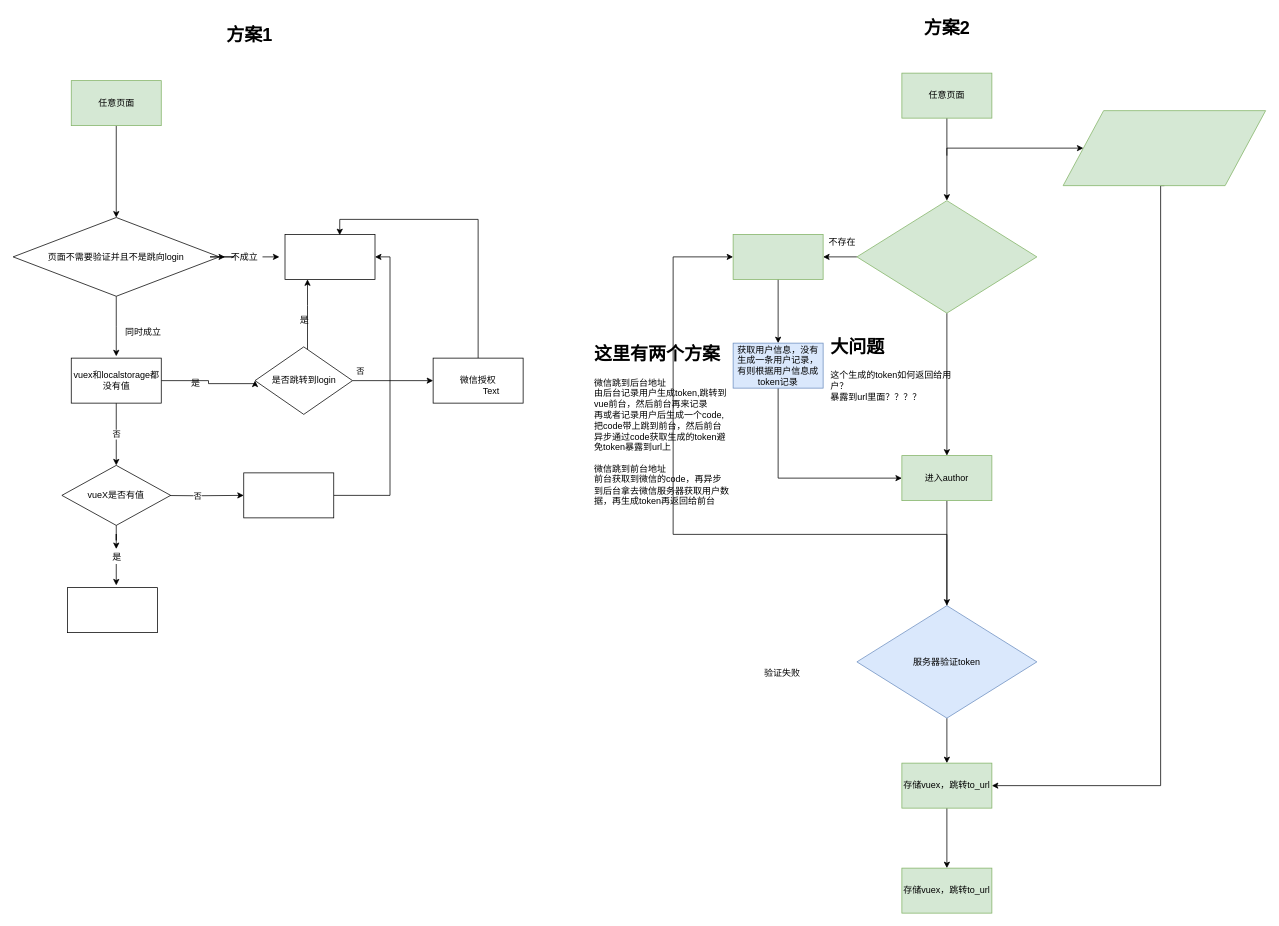
The diagram is 1279 pixels wide and 926 high, and some of its shapes have lost their labels. The box of each missing label's shape, as (x1, y1, x2, y2) in pixels:
localstorage.to_url记录用户来的链接: (1062, 110, 1266, 186)
next: (67, 587, 158, 633)
next-->login: (284, 234, 375, 279)
异步获取值给到vuex: (243, 472, 334, 518)
检查是否由 localstorage.token: (856, 200, 1037, 313)
跳转微信授权: (732, 234, 823, 279)
